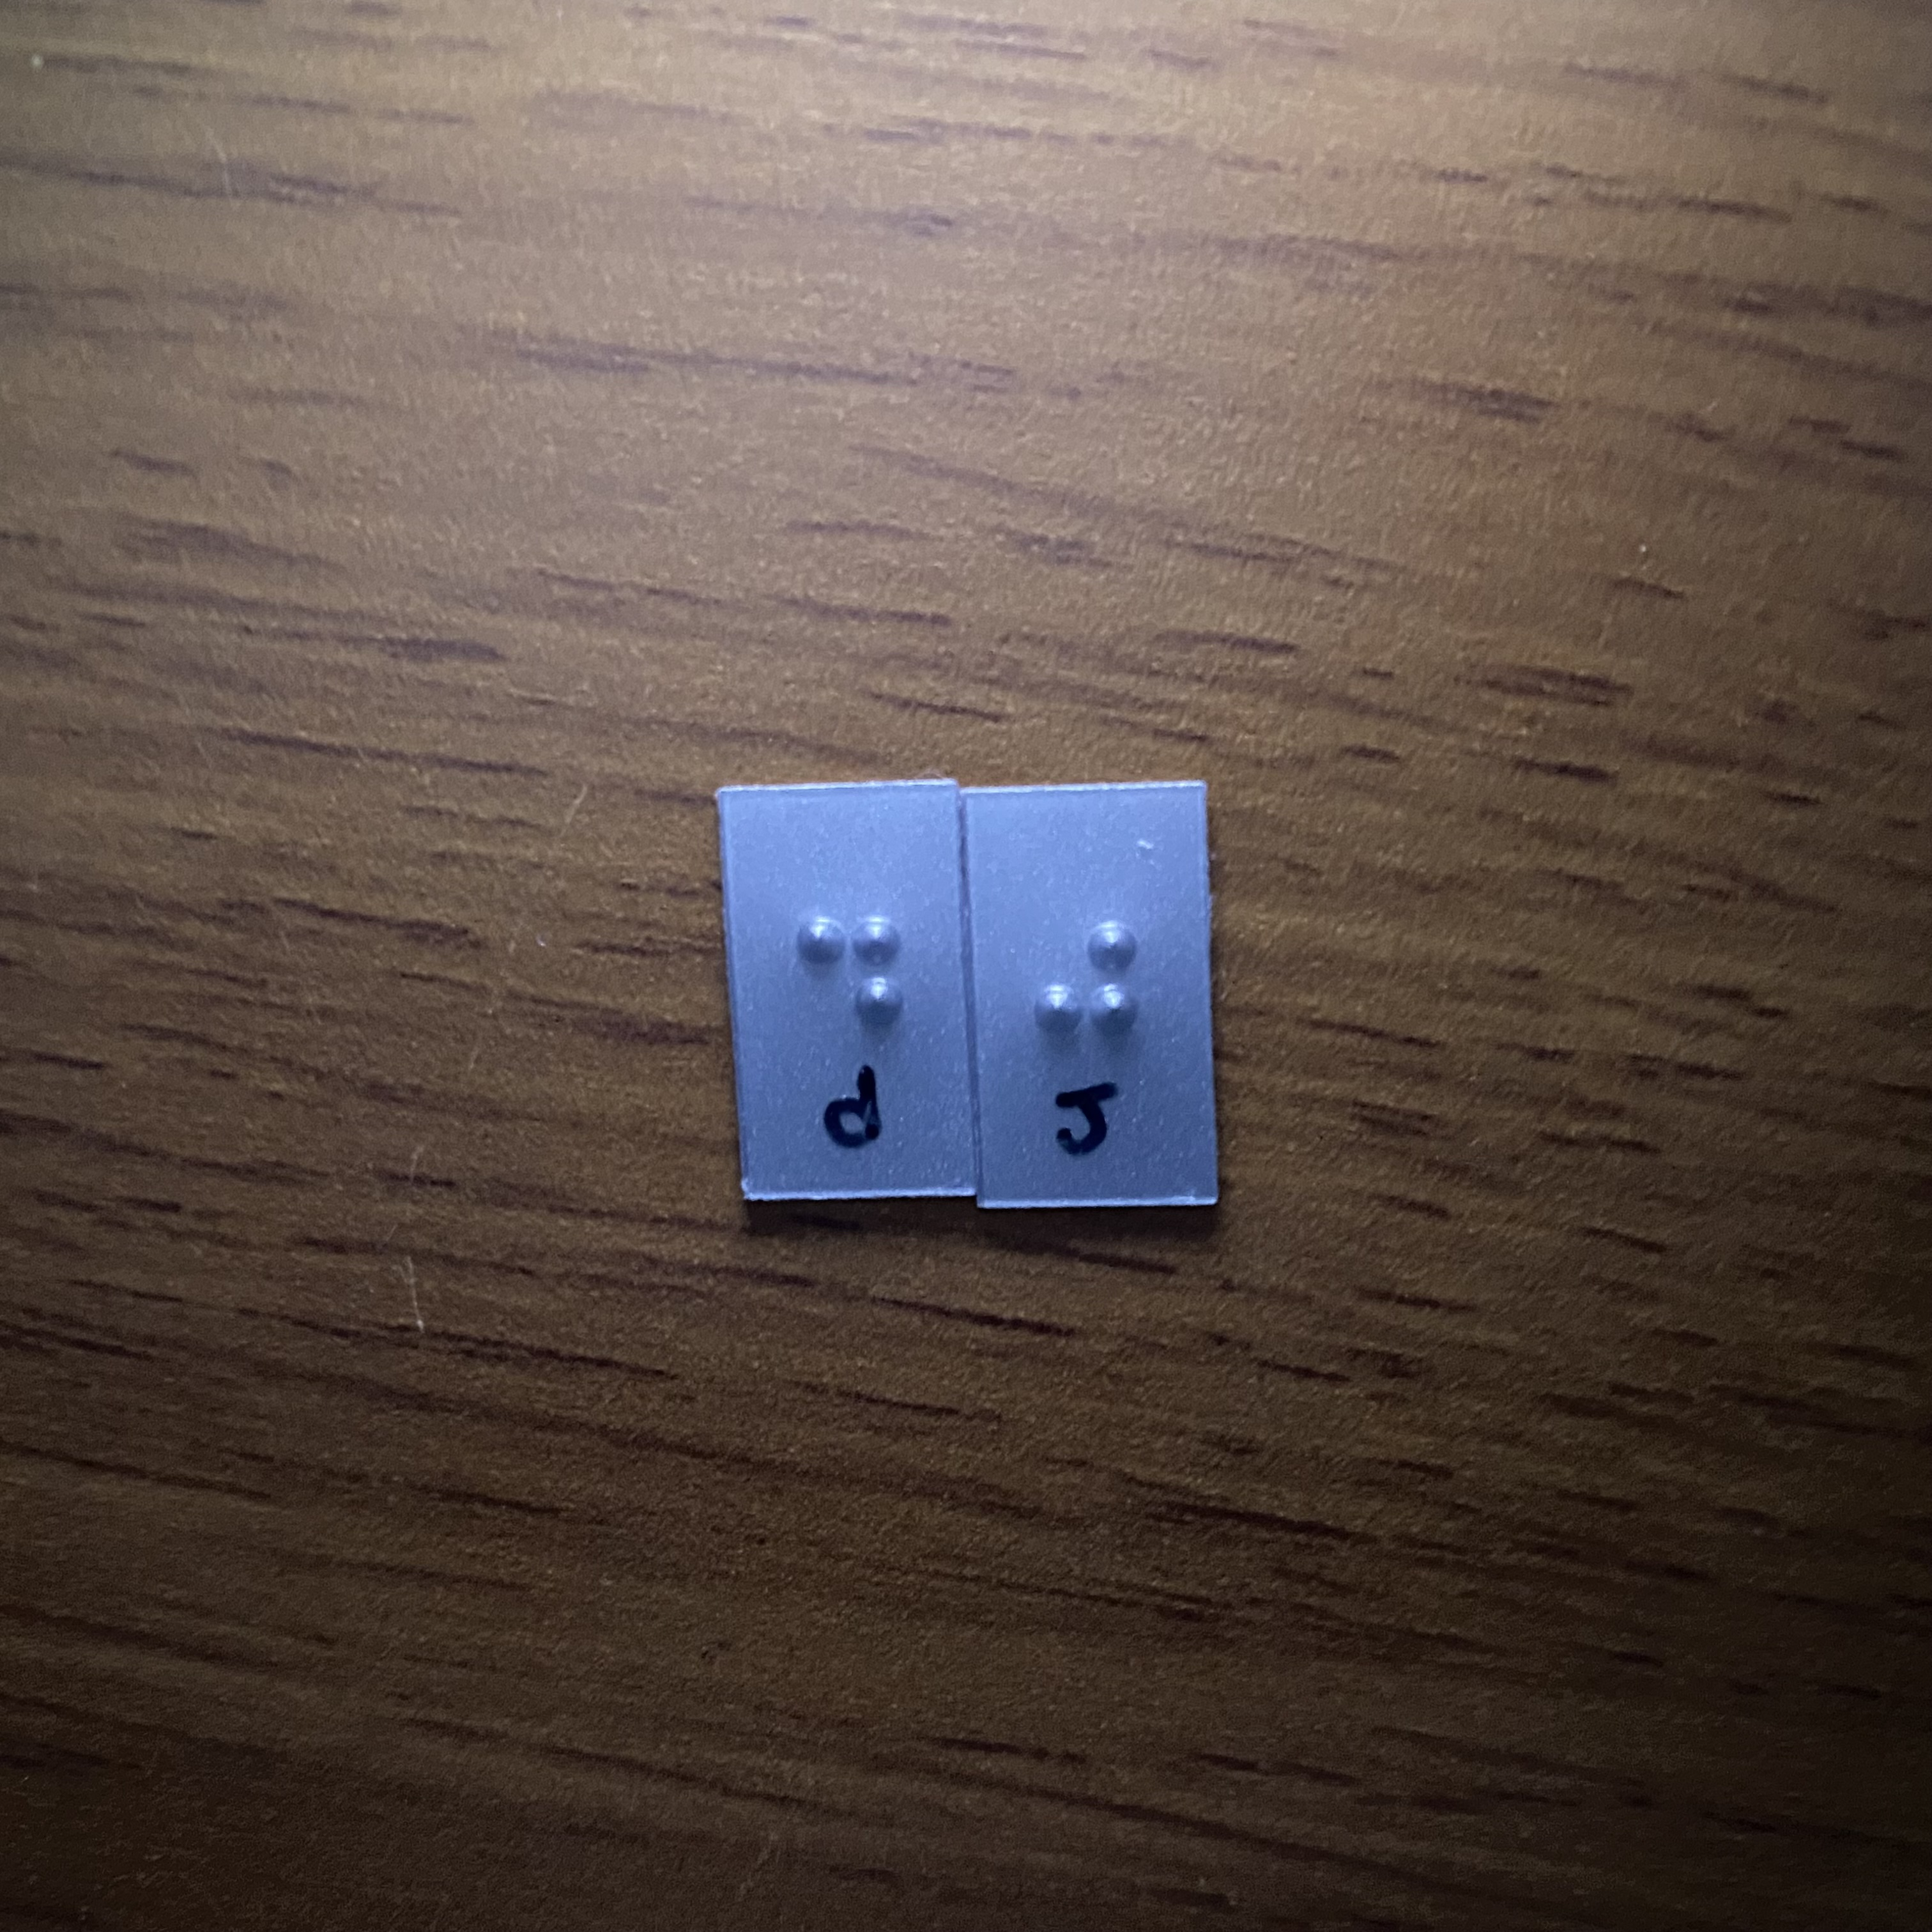d: (763, 890, 910, 1103)
j: (1005, 905, 1163, 1112)
